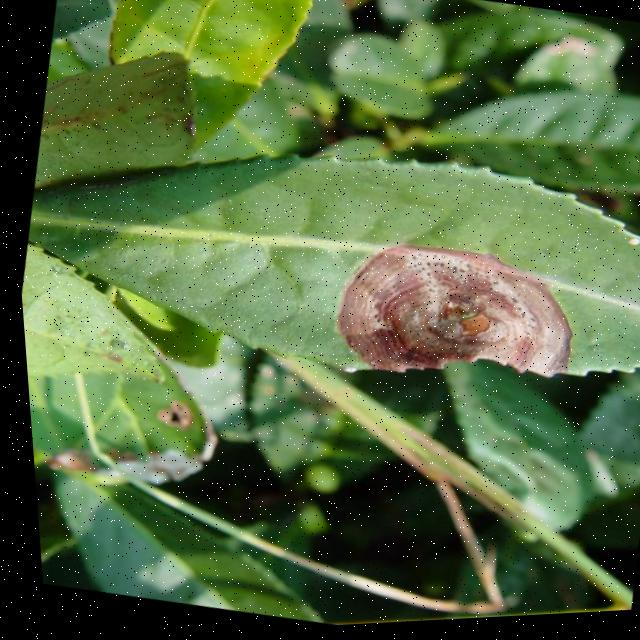Tea cloud leaf blight: (312, 231, 584, 424)
